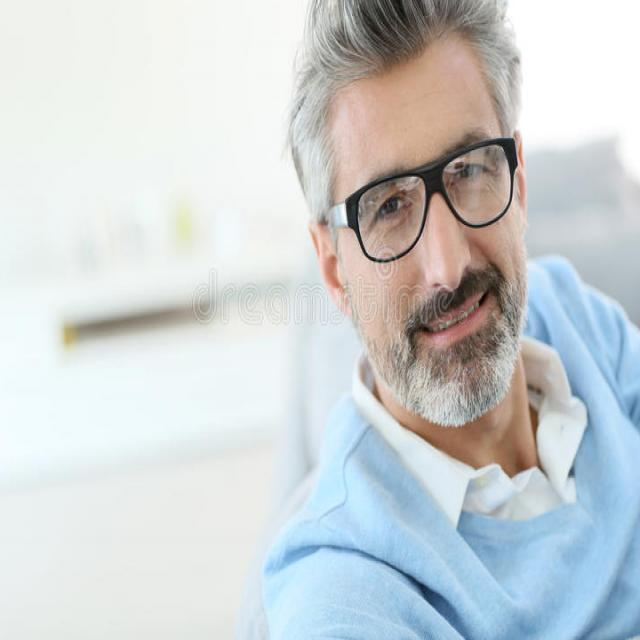Glasses: (327, 134, 519, 266)
